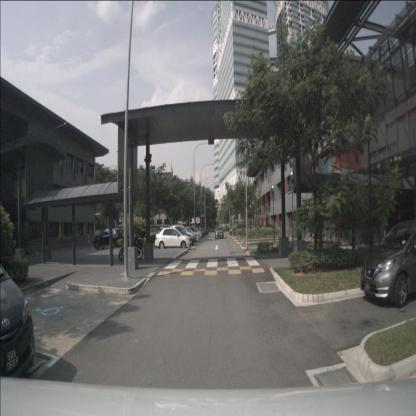human-pedestrian-adult: (87, 231, 91, 251)
movable_object-trafficcone: (246, 240, 249, 251), (243, 235, 246, 244), (238, 233, 241, 242), (33, 245, 35, 254), (236, 232, 238, 239)
vehicle-car: (360, 219, 416, 308), (0, 254, 36, 389), (155, 228, 192, 250), (94, 228, 123, 250), (165, 228, 194, 246), (169, 225, 196, 244), (179, 226, 200, 243), (184, 227, 202, 239), (192, 226, 205, 238), (214, 226, 224, 239)
vehicle-motorcycle: (119, 229, 146, 261)
vehicle-truck: (228, 224, 246, 237)
